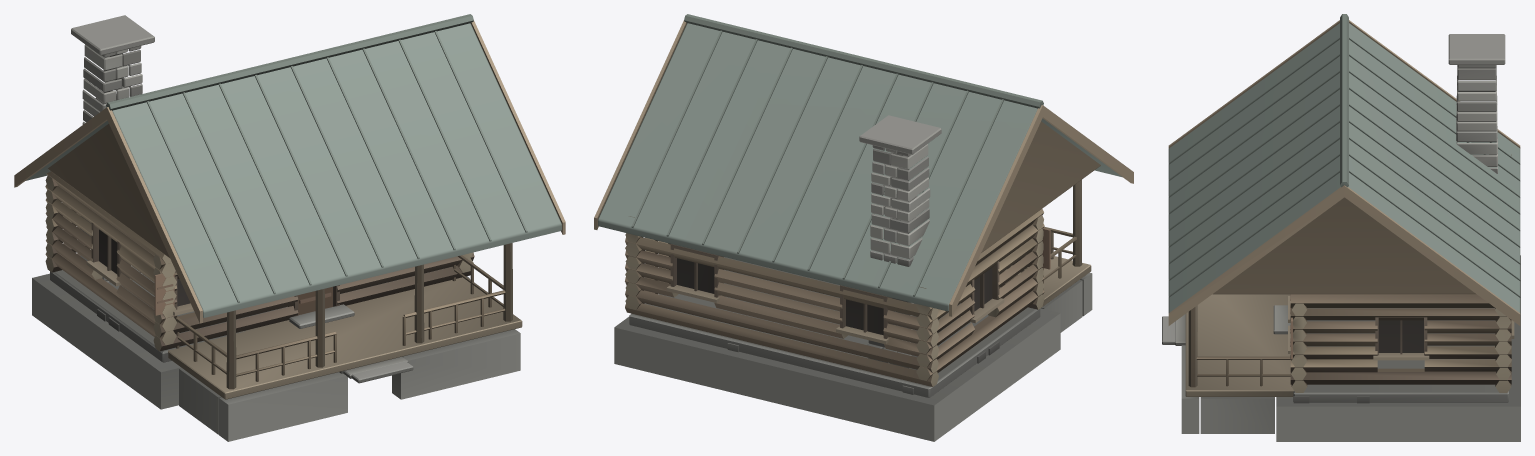
The model's file is porch.glb.
The picture shows the model from 3 angles, left to right: view 1: azimuth 30°, elevation 25°; view 2: azimuth 150°, elevation 25°; view 3: azimuth 270°, elevation 25°; orthographic projection. The views are drawn at different scales.
Bounding box in the file's own units: 10.58 × 7.9 × 9.48.
